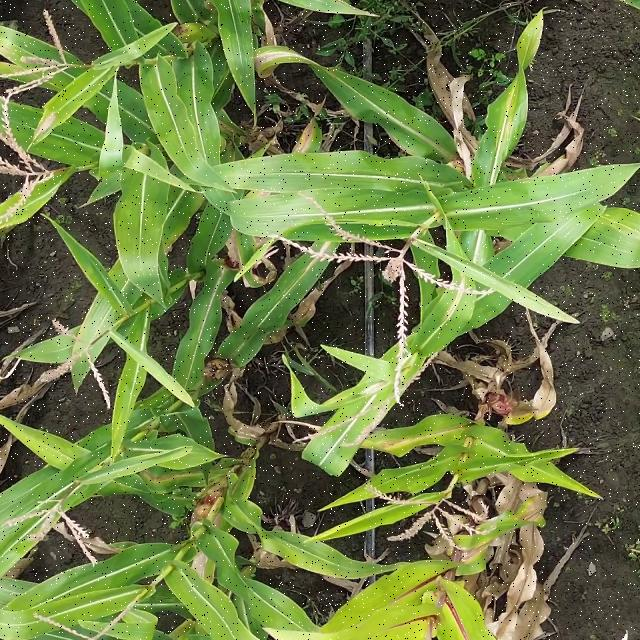gray-leaf-spot: (226, 6, 256, 74), (143, 584, 184, 612)
northern-leaf-blight: (386, 428, 466, 449), (258, 47, 321, 73), (459, 531, 498, 571), (142, 466, 202, 488), (445, 280, 473, 324), (302, 240, 340, 271), (501, 86, 521, 144)
southern-leaf-blight: (386, 476, 431, 492)
